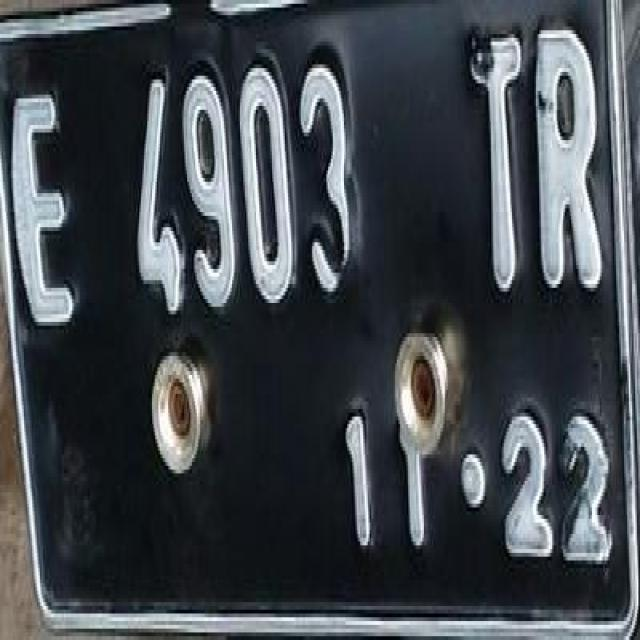0: (236, 62, 295, 316)
3: (297, 62, 361, 336)
4: (130, 70, 183, 320)
9: (183, 64, 236, 318)
E: (20, 92, 78, 328)
R: (528, 20, 606, 312)
T: (464, 25, 528, 294)
